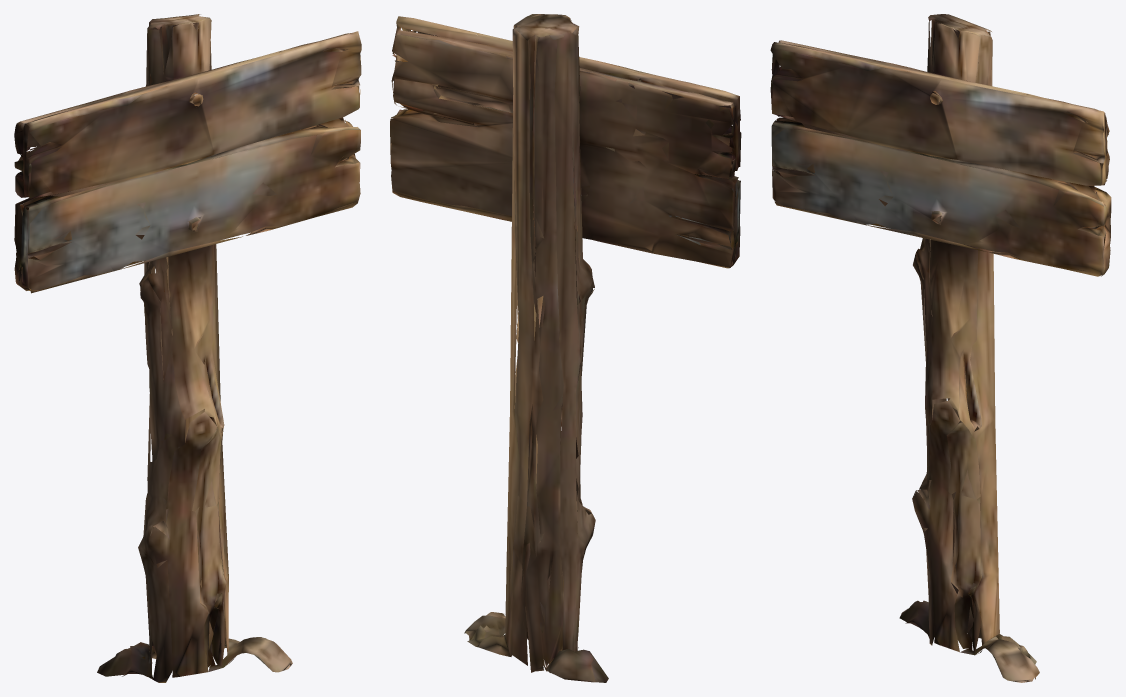
Rendered from letrero_poste.movil.glb.
3 views of the same model, side by side, from view 1: azimuth 30°, elevation 25°; view 2: azimuth 150°, elevation 25°; view 3: azimuth 330°, elevation 25° (orthographic). The views are drawn at different scales.
Visible parts, largest first — view 1: geometry_0; view 2: geometry_0; view 3: geometry_0.
Boxes of the visible parts, x1,y1,x2,y2 form: geometry_0: [14, 14, 361, 682]; geometry_0: [390, 14, 741, 682]; geometry_0: [770, 14, 1111, 682].
Size of the model in its own units: 1.2 by 2.19 by 0.2497.
1 material, 1 textured.
